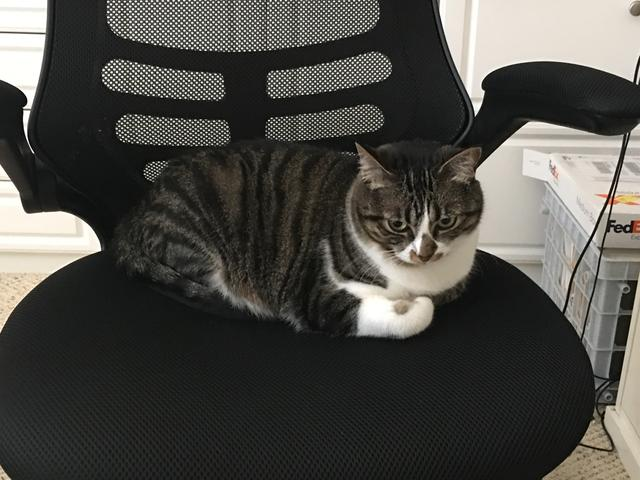playdoh: (99, 140, 486, 339)
